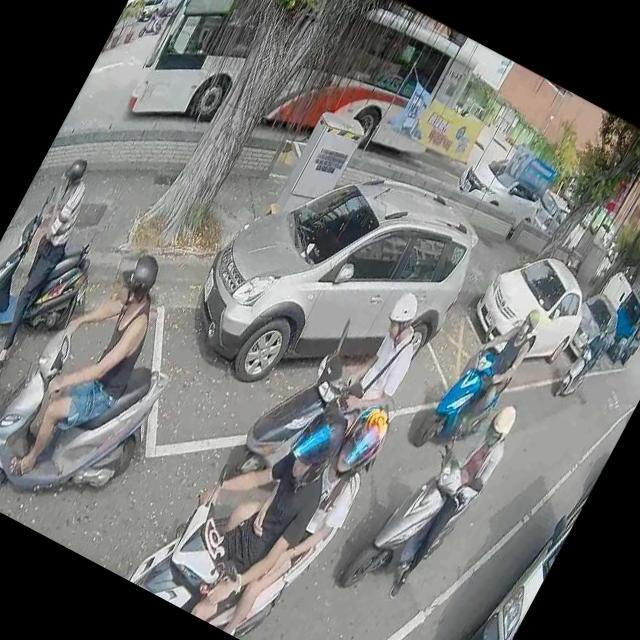person: (144, 365, 365, 640), (184, 372, 395, 640), (0, 225, 189, 505), (379, 383, 528, 612), (0, 143, 110, 377), (427, 288, 548, 454), (330, 283, 440, 435), (572, 318, 616, 379), (0, 439, 18, 509), (144, 0, 172, 34)
